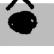not correct: (5, 0, 40, 36)
